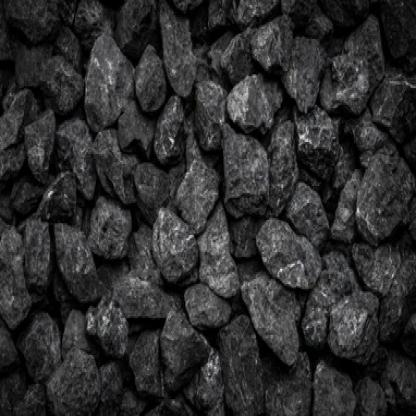Sedimentary_coal: (328, 3, 385, 112), (354, 144, 414, 236), (238, 270, 305, 352), (83, 22, 133, 127), (259, 213, 320, 288), (89, 186, 138, 269), (224, 123, 274, 203), (329, 286, 380, 360), (226, 66, 284, 130), (53, 216, 96, 291), (197, 213, 239, 288), (172, 159, 219, 225), (127, 49, 170, 118), (288, 39, 326, 115), (161, 313, 206, 372), (288, 179, 332, 232), (90, 301, 132, 350)
